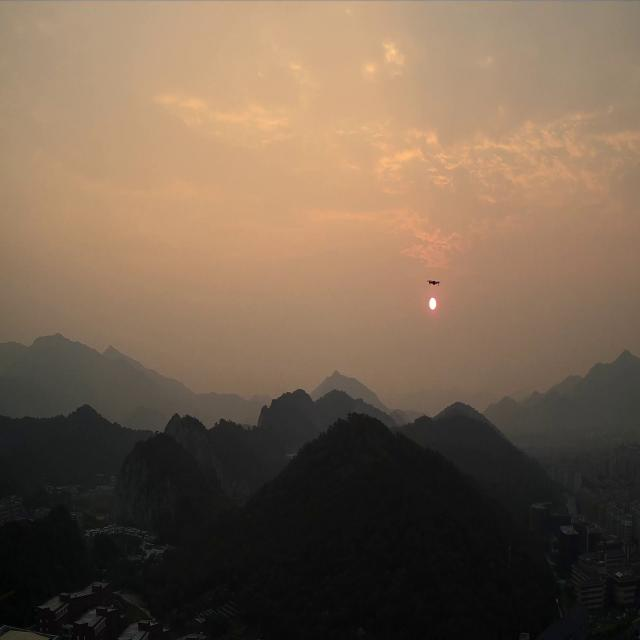drone: (426, 279, 441, 286)
